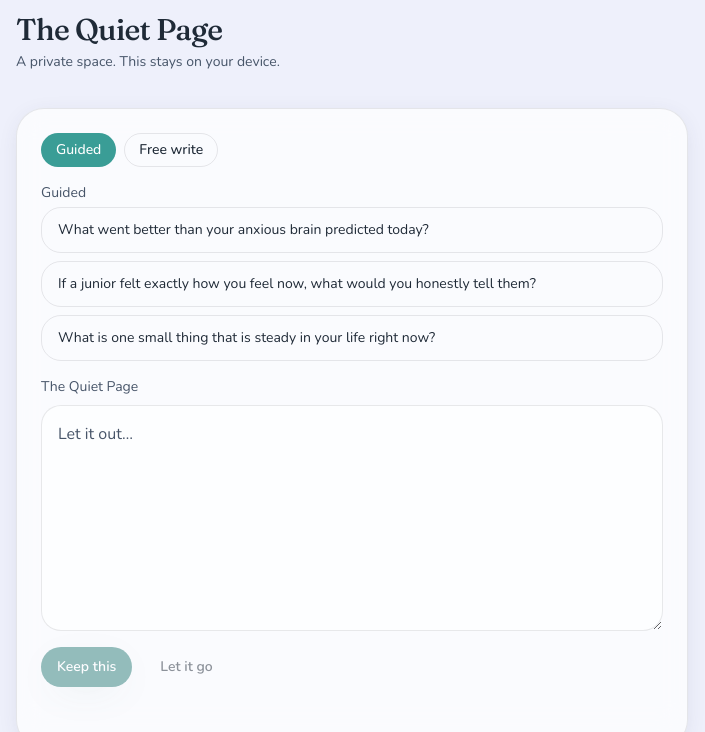
Test: Journal — The Quiet Page › saves NOTHING when "Let it go" is clicked, and confirms it was let go
The width and height of the screenshot is (705, 732).
Type "venting some frustration" into the text box with placeholder "Let it out…" at x=352, y=518, box [41,405,663,631]
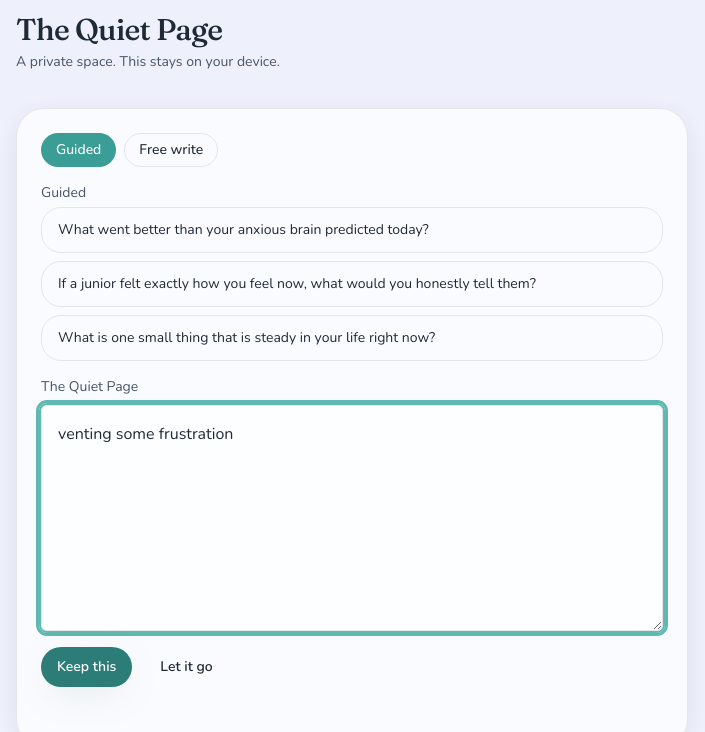
Click the button "Let it go" at x=186, y=667, box [144,647,229,687]
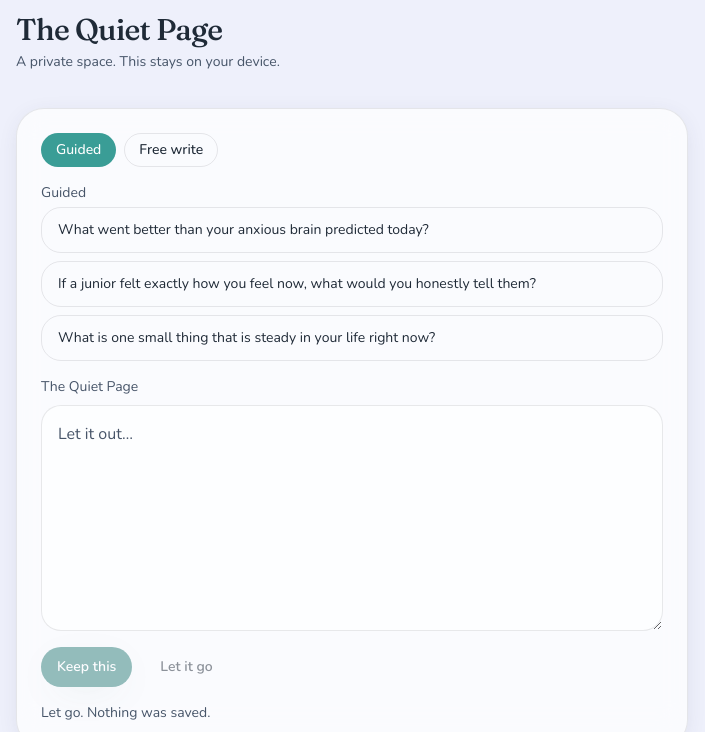
Now the text "Let go. Nothing was saved." is shown, box [41,703,210,722]
